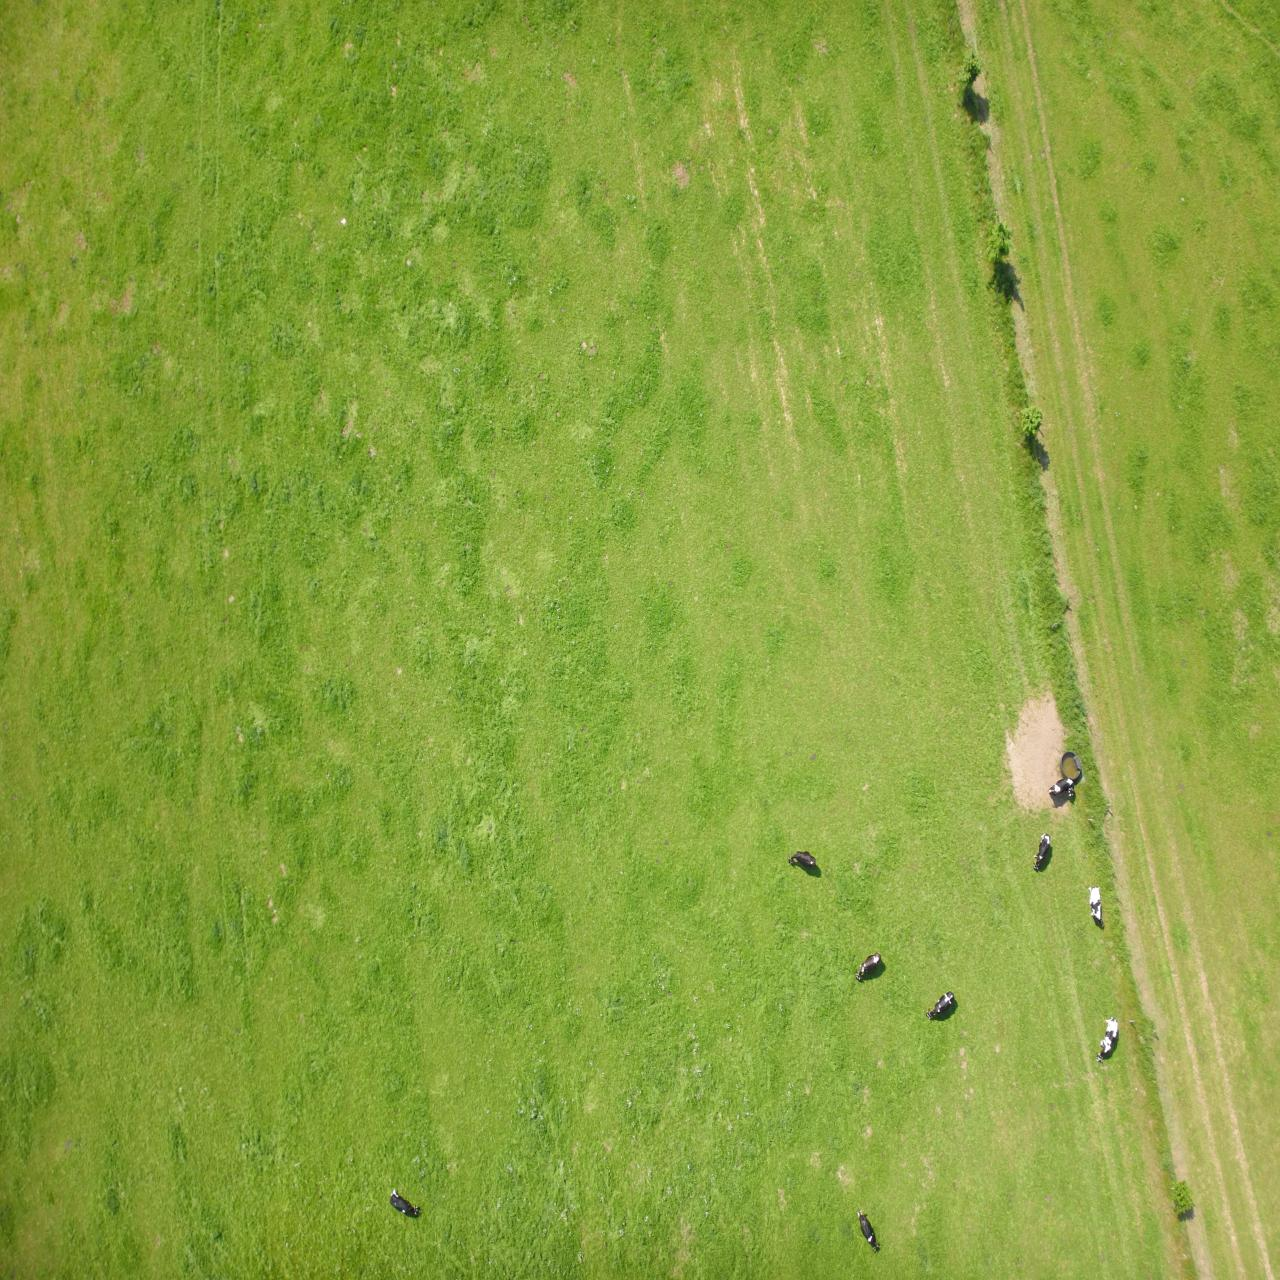cow: (162, 215, 184, 263), (326, 260, 354, 291), (399, 297, 424, 327), (173, 350, 191, 394), (230, 406, 247, 448), (205, 482, 232, 502), (464, 413, 492, 430)
